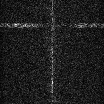wifi: (1, 22, 104, 27)
